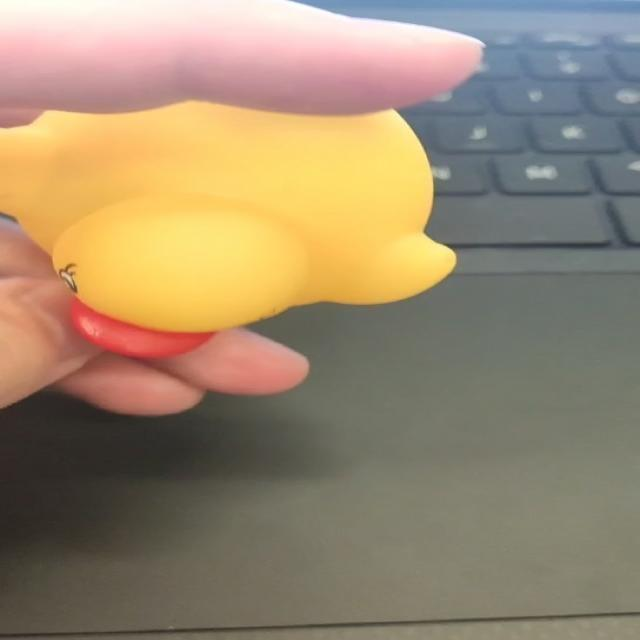rubber-duck: (0, 100, 454, 331)
